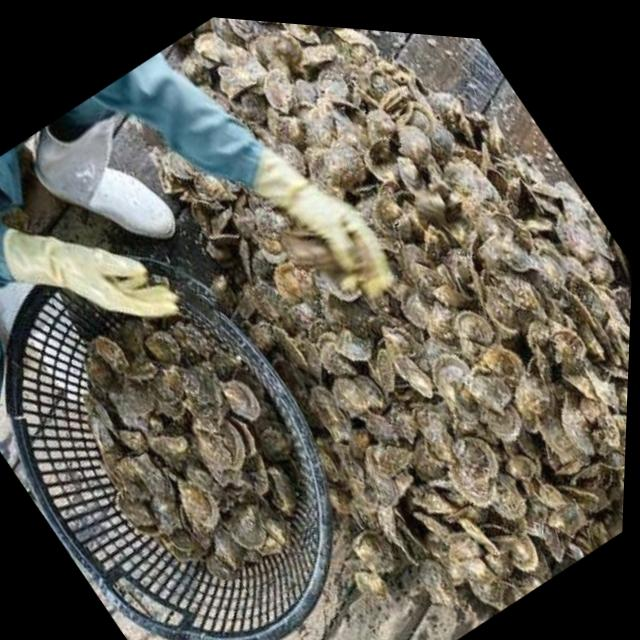Oyster-Closed: (347, 520, 409, 588), (263, 314, 316, 375), (290, 329, 342, 390), (70, 403, 125, 459), (565, 267, 617, 326), (453, 507, 502, 562), (204, 525, 250, 576), (202, 216, 249, 262), (310, 441, 353, 488), (329, 27, 382, 64), (373, 77, 419, 119), (553, 281, 594, 328), (342, 494, 384, 539), (513, 311, 555, 355), (575, 319, 613, 366), (542, 290, 574, 327), (324, 486, 356, 521), (319, 26, 360, 41)
Oyster-Indeterminate: (334, 36, 427, 127), (165, 465, 244, 551), (401, 543, 477, 624), (419, 345, 492, 421), (475, 200, 544, 278), (366, 499, 433, 575), (166, 364, 234, 437), (474, 389, 542, 460), (436, 150, 501, 223), (433, 520, 499, 591), (489, 255, 555, 326), (272, 211, 338, 282), (569, 347, 629, 422), (189, 18, 254, 86), (442, 425, 505, 493), (407, 287, 471, 352), (474, 219, 538, 284), (443, 451, 505, 518), (316, 130, 378, 196), (247, 22, 309, 87), (102, 480, 163, 545), (550, 398, 608, 466), (467, 558, 528, 621), (497, 524, 557, 588), (542, 320, 601, 385), (530, 412, 587, 478), (220, 78, 280, 140), (326, 313, 385, 376), (529, 430, 586, 493), (361, 431, 419, 492), (114, 372, 172, 432), (462, 364, 520, 424), (413, 407, 470, 467), (385, 346, 441, 407), (481, 466, 536, 528), (300, 383, 355, 445), (553, 465, 610, 524), (185, 159, 241, 219), (542, 174, 597, 235), (412, 498, 468, 557), (504, 366, 560, 425), (265, 251, 321, 310), (303, 155, 358, 215), (245, 198, 299, 257), (252, 61, 306, 120), (221, 498, 276, 555), (97, 442, 152, 498), (445, 297, 499, 354), (243, 270, 297, 327), (481, 337, 534, 395), (520, 333, 574, 389), (287, 32, 343, 86), (378, 393, 431, 450), (356, 133, 409, 190), (210, 52, 264, 107), (263, 94, 315, 151), (138, 489, 191, 544), (322, 369, 373, 426), (543, 493, 595, 547), (400, 432, 451, 487), (127, 444, 177, 500), (145, 416, 197, 469), (159, 522, 210, 576), (253, 417, 304, 471), (300, 99, 351, 153), (522, 240, 571, 296), (347, 557, 397, 611), (359, 345, 409, 399), (376, 314, 426, 367), (402, 254, 451, 308), (220, 234, 269, 287), (513, 489, 561, 542), (453, 324, 502, 375), (454, 259, 503, 310), (449, 229, 497, 281), (388, 118, 436, 170), (314, 326, 361, 379), (433, 93, 479, 147), (530, 519, 579, 569), (252, 505, 300, 556), (359, 461, 407, 512), (414, 324, 462, 374), (498, 441, 545, 492), (344, 369, 390, 420), (159, 141, 205, 191), (116, 316, 171, 357), (168, 315, 215, 362), (320, 82, 365, 130), (558, 360, 602, 409), (408, 179, 453, 226), (557, 248, 601, 296), (363, 191, 407, 239), (412, 481, 457, 527), (392, 288, 436, 335), (335, 293, 379, 340), (358, 403, 402, 449), (357, 102, 401, 148), (480, 280, 523, 327), (437, 245, 480, 292), (389, 152, 432, 199), (200, 264, 245, 308), (567, 214, 608, 262), (365, 166, 409, 210), (178, 457, 221, 502), (529, 471, 572, 516), (394, 193, 436, 239), (588, 490, 624, 543), (276, 135, 318, 180), (192, 545, 234, 589), (581, 247, 623, 291), (519, 203, 561, 247), (390, 233, 432, 276), (275, 22, 326, 57), (365, 283, 407, 325), (315, 288, 355, 332), (529, 167, 570, 209), (414, 220, 454, 263), (475, 114, 515, 157), (566, 519, 607, 560), (335, 459, 374, 502), (199, 202, 240, 242), (495, 174, 535, 215), (173, 50, 213, 91), (433, 277, 472, 319), (439, 209, 478, 251), (590, 413, 627, 457), (438, 493, 479, 532), (255, 237, 294, 278), (249, 527, 287, 569), (294, 133, 333, 173), (596, 319, 630, 364), (326, 108, 363, 149), (308, 64, 346, 103), (214, 18, 258, 51), (383, 271, 420, 309), (285, 70, 322, 108), (316, 267, 352, 306), (242, 247, 278, 286), (425, 126, 460, 166), (602, 238, 633, 283), (595, 351, 629, 392), (225, 383, 262, 420), (572, 391, 608, 429), (438, 187, 473, 225), (114, 417, 149, 454), (592, 450, 625, 489), (94, 334, 128, 371), (470, 137, 504, 174), (544, 369, 578, 405), (481, 542, 514, 579), (583, 208, 615, 246), (601, 403, 627, 449), (144, 332, 178, 367), (233, 19, 291, 39), (225, 188, 259, 222), (462, 101, 494, 137), (346, 427, 379, 461), (290, 297, 323, 331), (246, 315, 278, 350), (483, 162, 514, 198), (424, 468, 457, 501), (86, 354, 115, 391), (178, 182, 210, 215), (152, 368, 182, 400), (536, 193, 565, 226), (129, 357, 157, 385), (617, 281, 631, 336), (453, 138, 480, 166), (212, 348, 237, 378), (614, 374, 628, 427), (620, 337, 629, 379)
Oyster-Open: (239, 452, 305, 522), (194, 408, 258, 475), (89, 389, 133, 438), (383, 208, 426, 255), (180, 193, 220, 234)
